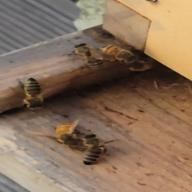Bee: (57, 121, 136, 166), (12, 71, 63, 112), (94, 44, 152, 64)
